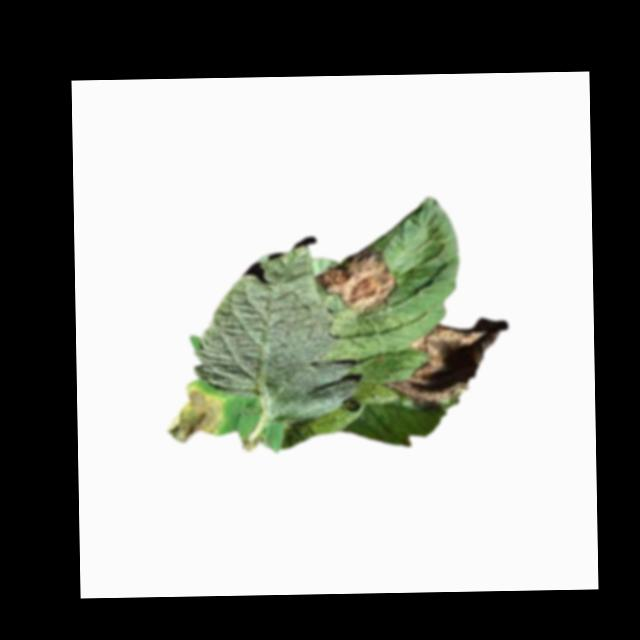Late_blight: (381, 317, 509, 409), (315, 244, 397, 315), (161, 383, 225, 444), (240, 434, 271, 454)
healthy: (190, 235, 359, 425)
